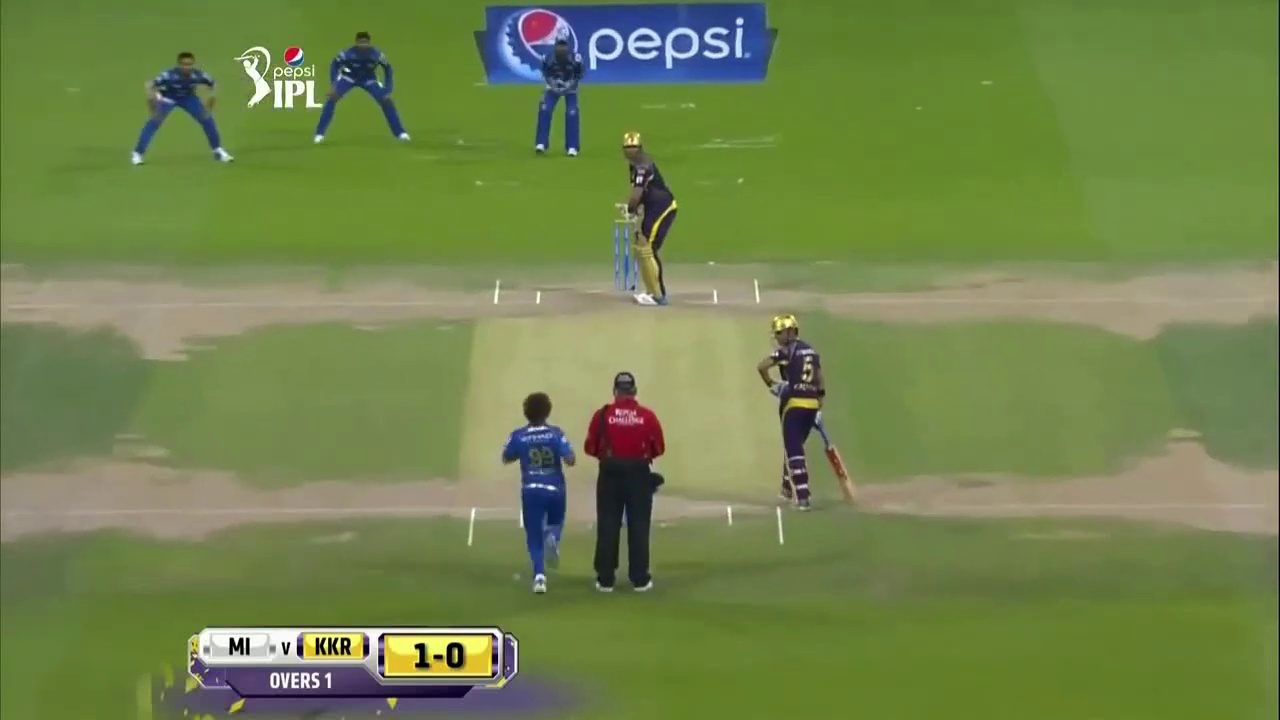bat: (815, 421, 869, 506)
batter: (756, 308, 862, 517), (621, 126, 682, 309)
player: (128, 51, 231, 164)
stumps: (613, 219, 635, 288)
